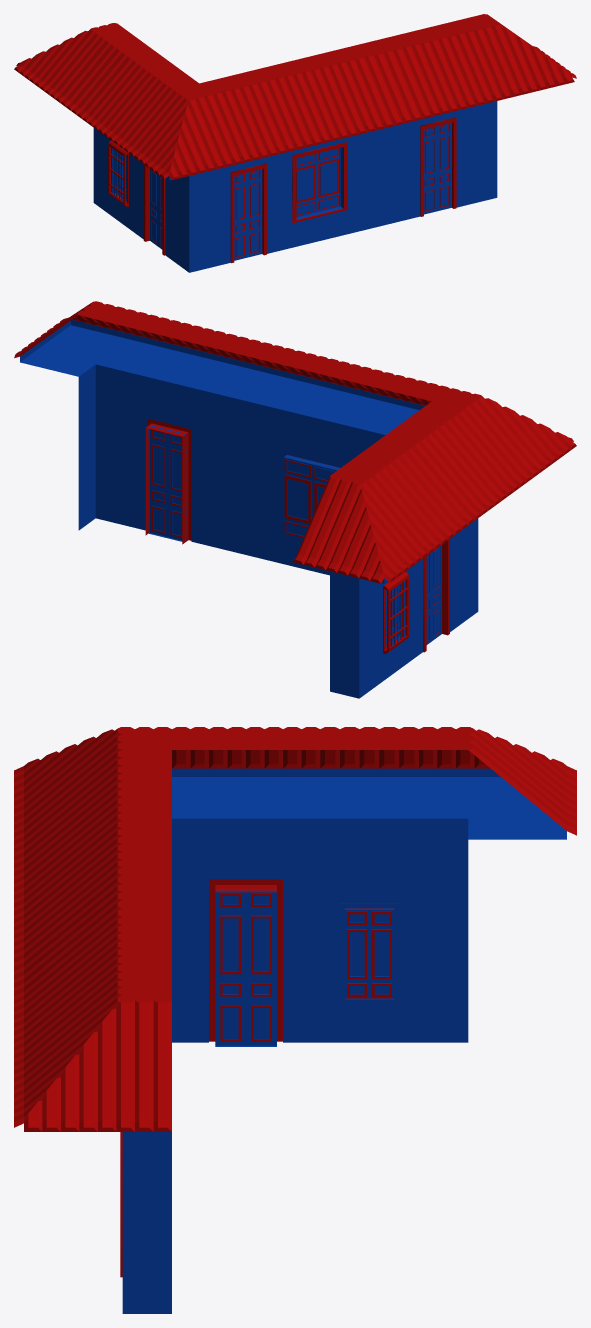
The model's file is House04.fbx.
The picture shows the model from 3 angles, top to bottom: view 1: azimuth 30°, elevation 25°; view 2: azimuth 150°, elevation 25°; view 3: azimuth 270°, elevation 25°; orthographic projection. The views are drawn at different scales.
Parts seen in each view (by area): view 1: RoofCorner8, Roof3M15, Roof3M17, Roof3M16, Roof3M18, Wall2M19, WallFrameSmallDoor2, WallFrameSmallDoor1, RoofCorner9, Roof2M6, WindowsFirstFloor2, WallCorner15 (+11 smaller); view 2: RoofCorner10, WallFrameSmallDoor2, Wall2M19, Roof3M18, WallCorner16, RoofCorner9, Roof3M16, Roof3M17, WallFrameWindows03, WallCorner17, Roof2M7, RoofCorner8 (+9 smaller); view 3: WallFrameSmallDoor3, RoofCorner9, WallSmallWindows1, RoofCorner10, Roof3M18, WallCorner17, Roof3M16, Roof3M17, Roof3M15, SmallDoor04, WallCorner16, Roof2M7 (+3 smaller).
Part boxes in pixels (x1,y1,x2,y2): RoofCorner8: [123, 83, 242, 180]; Roof3M15: [199, 66, 313, 162]; Roof3M17: [389, 20, 503, 116]; Roof3M16: [271, 49, 384, 145]; Roof3M18: [82, 53, 198, 149]; Wall2M19: [355, 124, 402, 232]; WallFrameSmallDoor2: [402, 107, 473, 220]; WallFrameSmallDoor1: [213, 153, 283, 266]; RoofCorner9: [460, 14, 576, 99]; Roof2M6: [342, 37, 432, 128]; WindowsFirstFloor2: [292, 142, 347, 223]; WallCorner15: [175, 170, 212, 272]; RoofCorner10: [293, 463, 440, 583]; WallFrameSmallDoor2: [125, 371, 213, 546]; Wall2M19: [213, 393, 272, 561]; Roof3M18: [381, 401, 525, 520]; WallCorner16: [78, 364, 124, 530]; RoofCorner9: [14, 301, 158, 376]; Roof3M16: [255, 345, 394, 428]; Roof3M17: [108, 309, 247, 392]; WallFrameWindows03: [272, 407, 360, 575]; WallCorner17: [330, 571, 376, 698]; Roof2M7: [347, 439, 474, 544]; RoofCorner8: [432, 388, 576, 482]; WallFrameSmallDoor3: [172, 818, 320, 1042]; RoofCorner9: [14, 979, 171, 1131]; WallSmallWindows1: [320, 818, 418, 1042]; RoofCorner10: [419, 727, 576, 839]; Roof3M18: [172, 727, 320, 818]; WallCorner17: [419, 818, 468, 1042]; Roof3M16: [14, 812, 171, 958]; Roof3M17: [14, 917, 171, 1062]; Roof3M15: [14, 750, 171, 895]; SmallDoor04: [215, 889, 276, 1046]; WallCorner16: [122, 1132, 171, 1313]; Roof2M7: [320, 727, 418, 818].
Bounding box in the file's own units: 1740 × 700 × 1140.
